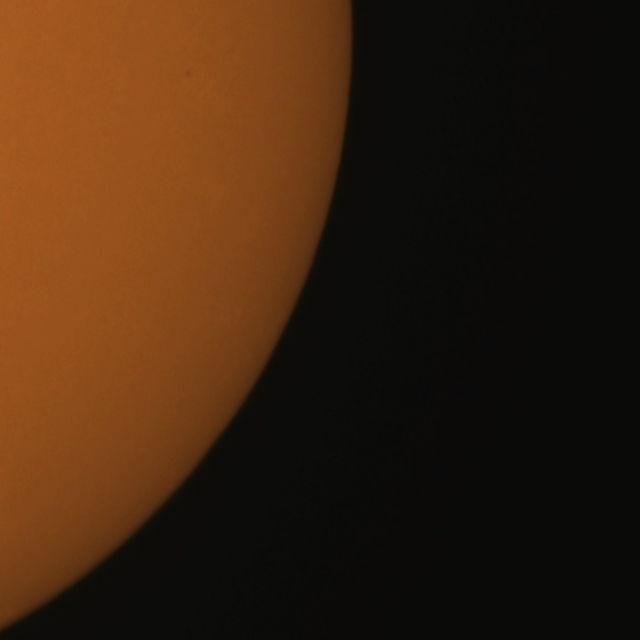sunspot: (183, 69, 192, 80)
